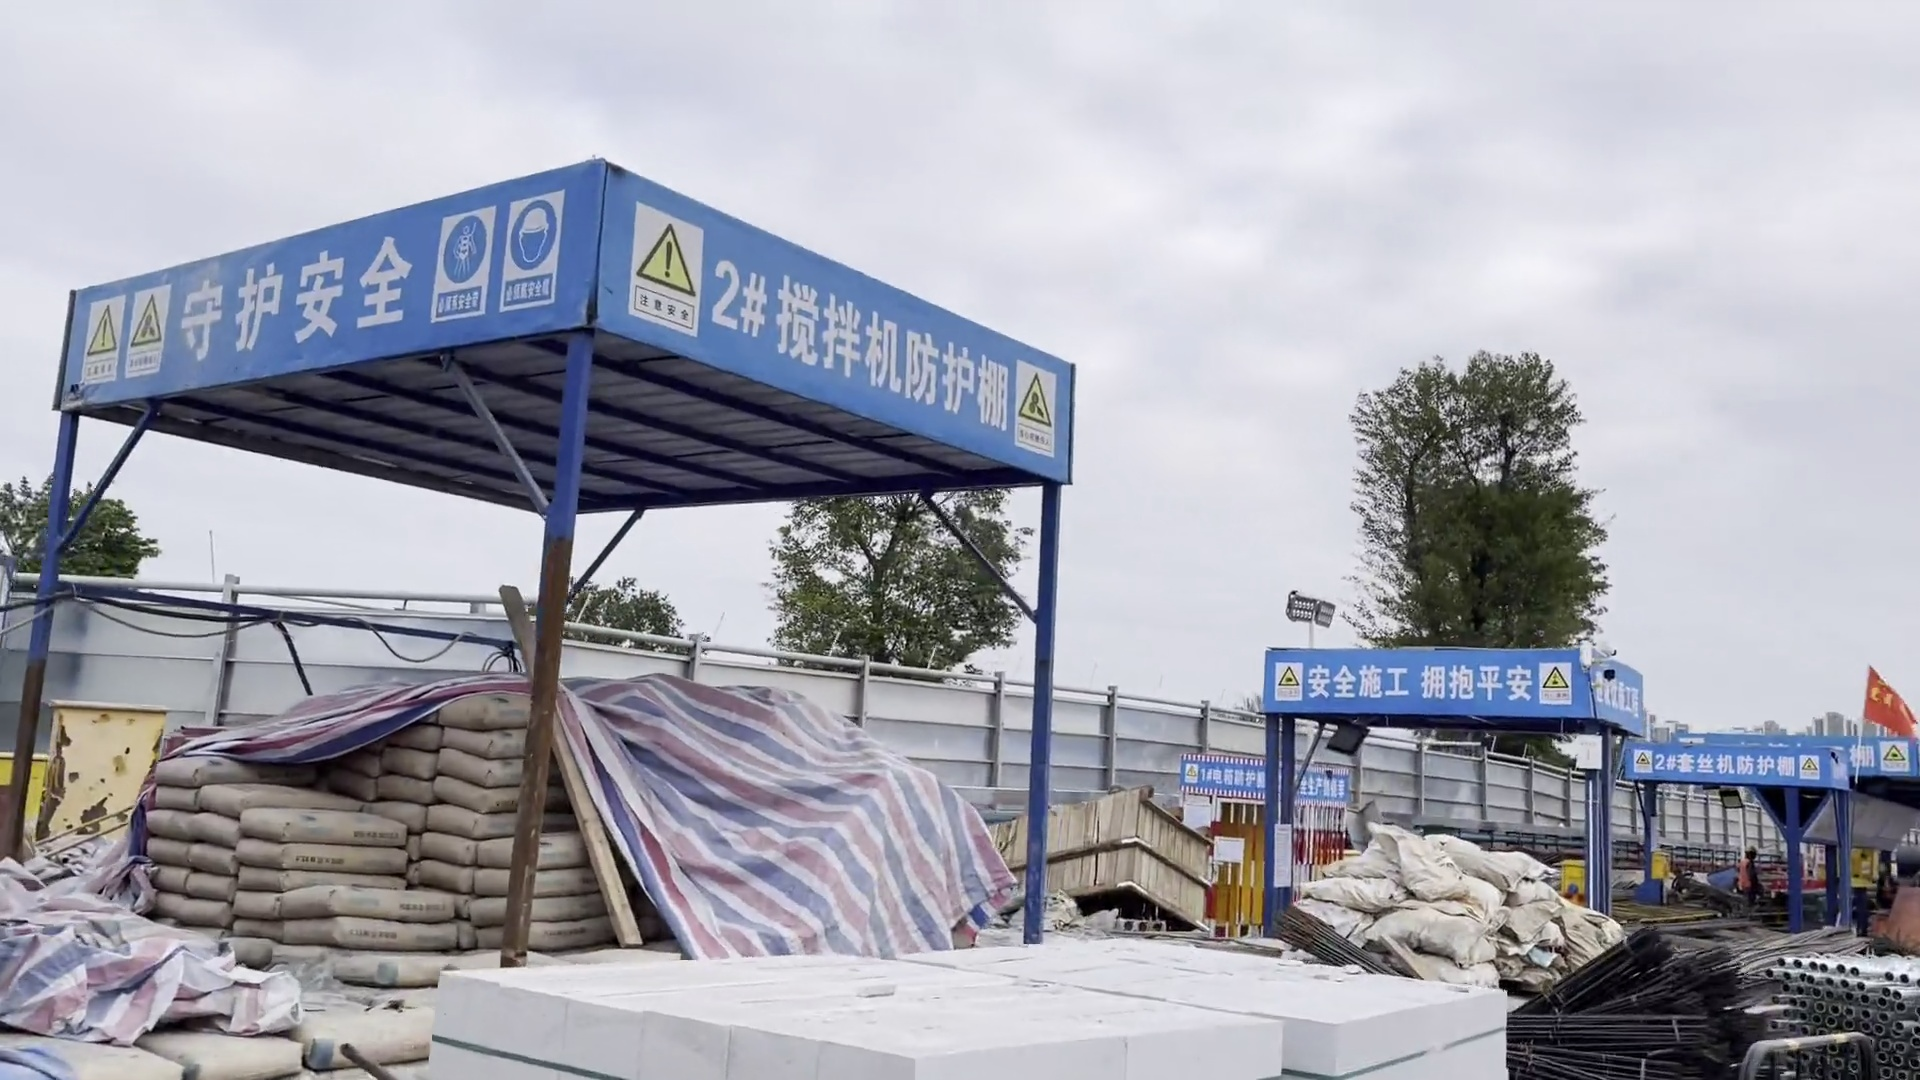brick: (421, 963, 1505, 1080)
ebox: (36, 702, 165, 853), (1547, 858, 1596, 905)
scaffold: (1722, 931, 1920, 1056)
slogan: (179, 215, 431, 361), (1307, 658, 1535, 705)
